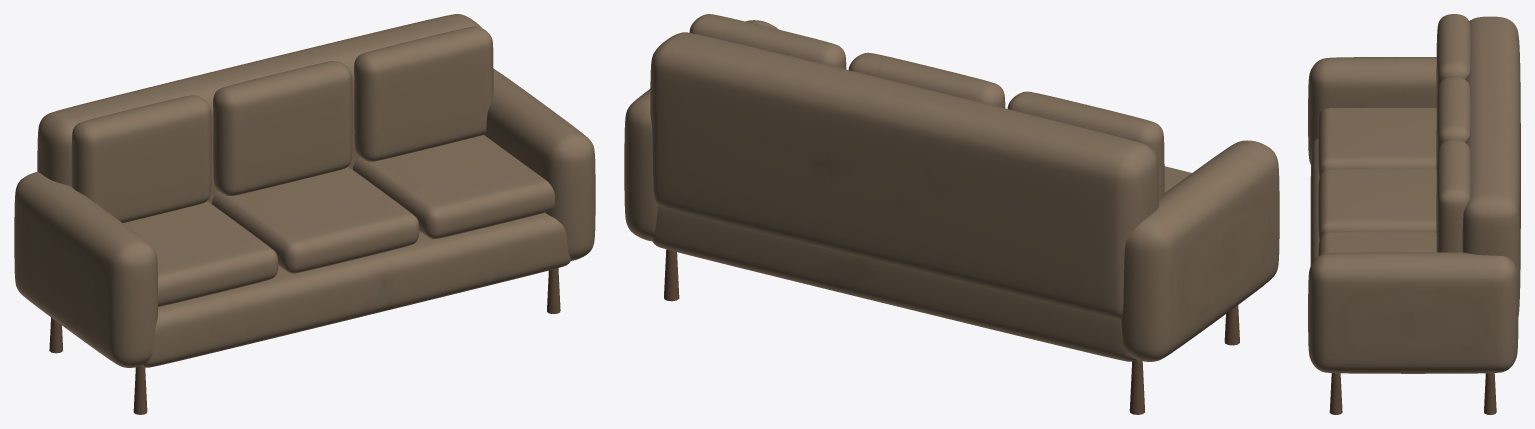
File: couch.glb
3 views of the same model, side by side, from view 1: azimuth 30°, elevation 25°; view 2: azimuth 150°, elevation 25°; view 3: azimuth 270°, elevation 25° (orthographic). The views are drawn at different scales.
Visible parts, largest first — view 1: Couch; view 2: Couch; view 3: Couch.
Boxes of the visible parts, <box> form: Couch: <box>14,14,595,414</box>; Couch: <box>624,14,1279,414</box>; Couch: <box>1308,14,1520,414</box>.
Bounding box in the file's own units: 2 × 0.9396 × 0.8289.
2 materials, 2 textured.
